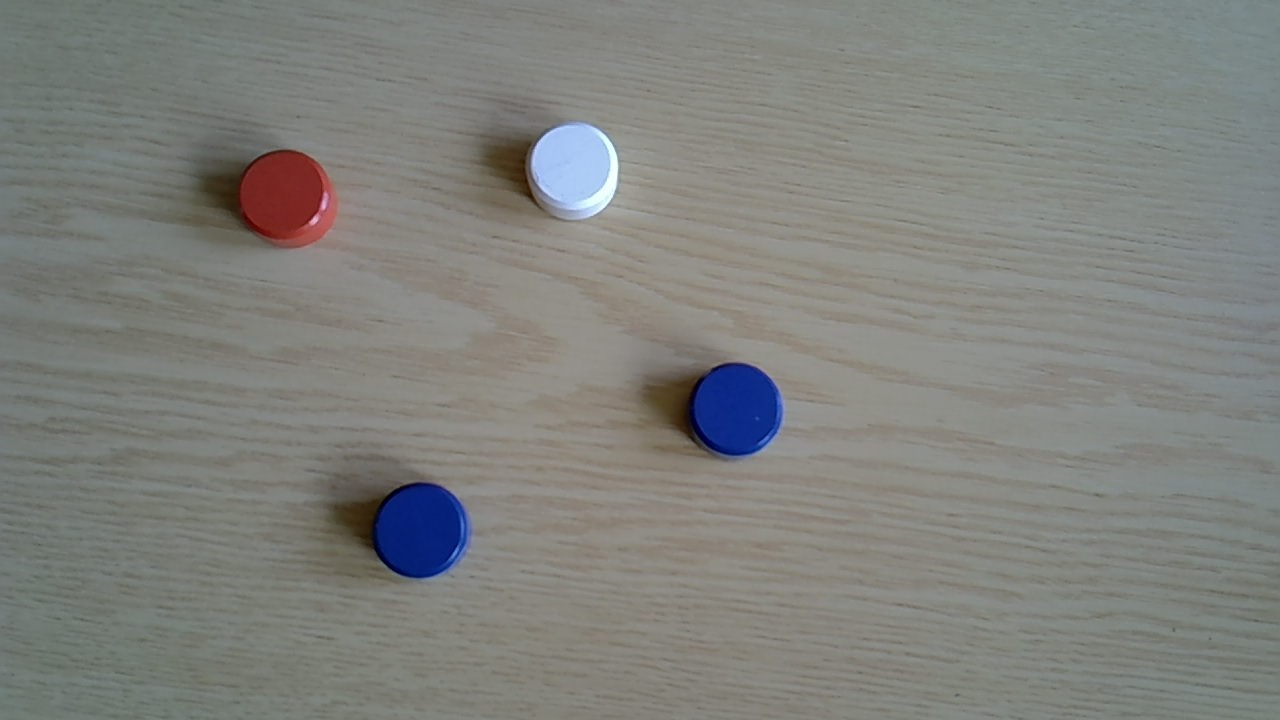WerkStueck: (237, 150, 341, 250), (686, 362, 786, 461), (372, 482, 472, 578), (525, 121, 620, 222)
